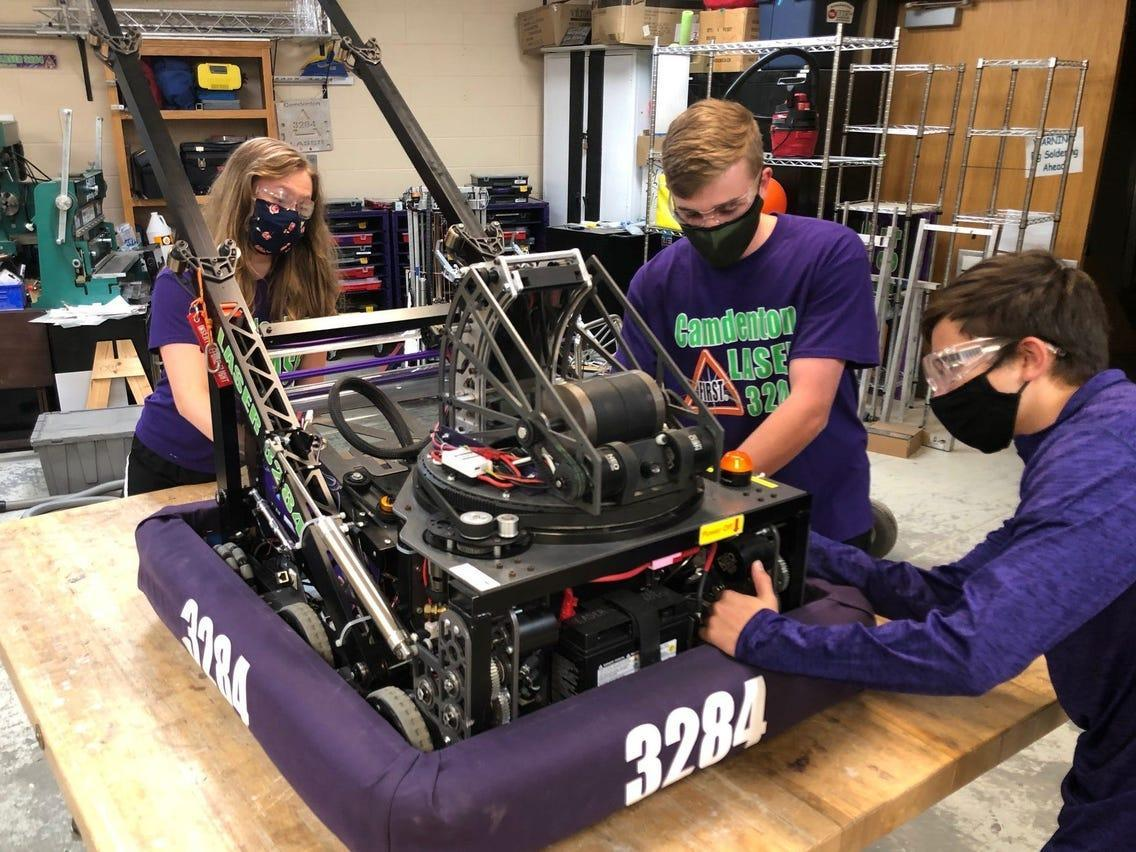robot: (73, 0, 886, 852)
